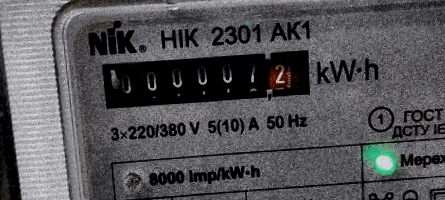0: (194, 63, 210, 87), (118, 70, 133, 95), (169, 65, 184, 89), (143, 69, 158, 92), (219, 61, 233, 84)
2: (272, 62, 287, 85)
7: (245, 59, 258, 84)
screen: (90, 39, 321, 117)
